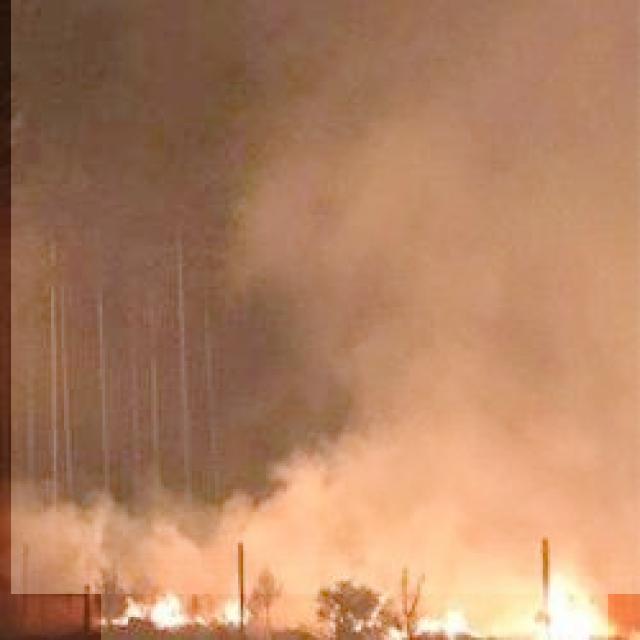Fire: (101, 574, 608, 640)
Smoke: (11, 0, 640, 594)
